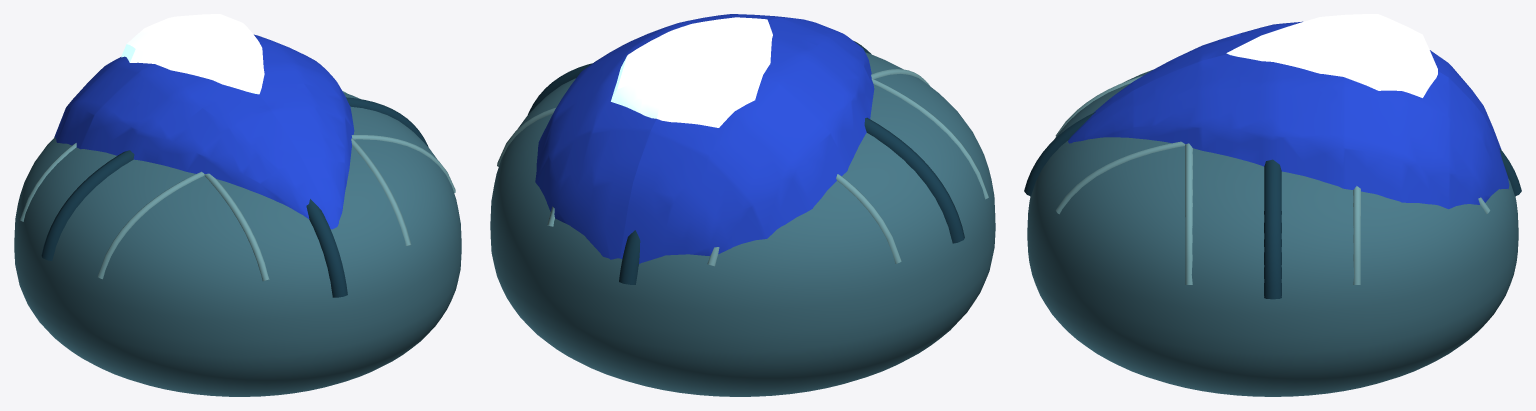
File: pu_zica_laser.glb
3 views of the same model, side by side, from view 1: azimuth 30°, elevation 25°; view 2: azimuth 150°, elevation 25°; view 3: azimuth 270°, elevation 25° (orthographic). The views are drawn at different scales.
Parts seen in each view (by area): view 1: orb, drop, heart, orb_groove_13, orb_seam_13; view 2: orb, drop, heart, orb_groove_13, orb_seam_13; view 3: orb, drop, heart, orb_groove_13, orb_seam_13.
Boxes of the visible parts, x1,y1,x2,y2 form: orb: (14,92,461,396); drop: (54,34,354,229); heart: (121,14,264,94); orb_groove_13: (41,97,428,297); orb_seam_13: (20,91,455,281); orb: (490,52,995,396); drop: (535,14,874,263); heart: (611,17,772,127); orb_groove_13: (528,41,964,284); orb_seam_13: (497,69,988,266); orb: (1027,69,1518,396); drop: (1068,21,1509,209); heart: (1226,14,1437,97); orb_groove_13: (1024,112,1521,299); orb_seam_13: (1055,76,1490,284).
Bounding box in the file's own units: 20.88 × 15.22 × 21.27.
